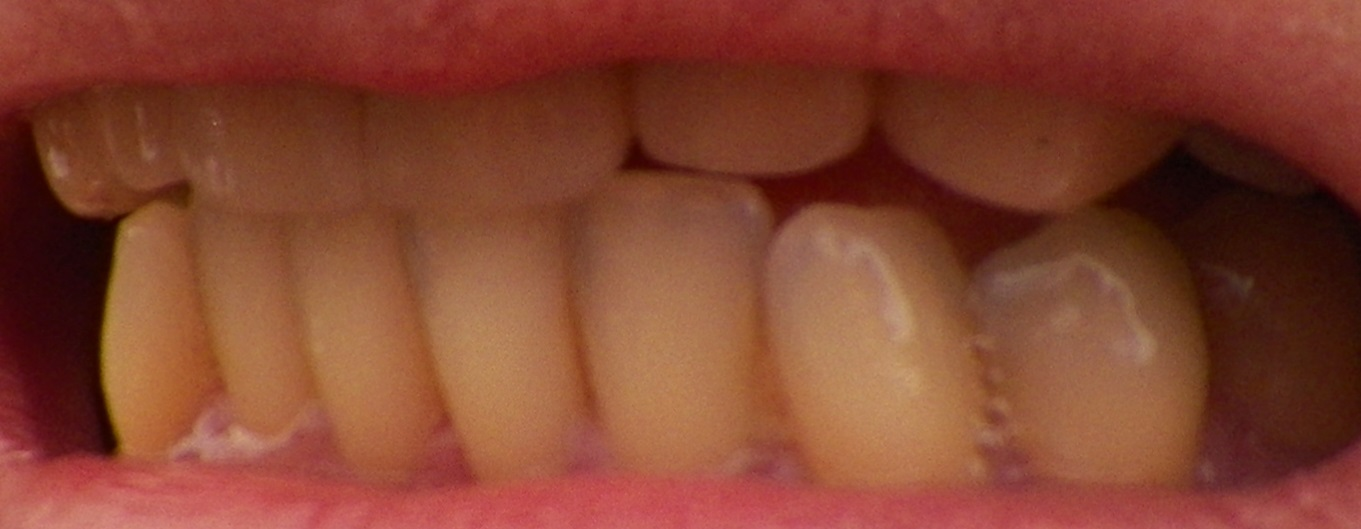boca: (26, 83, 1308, 485)
